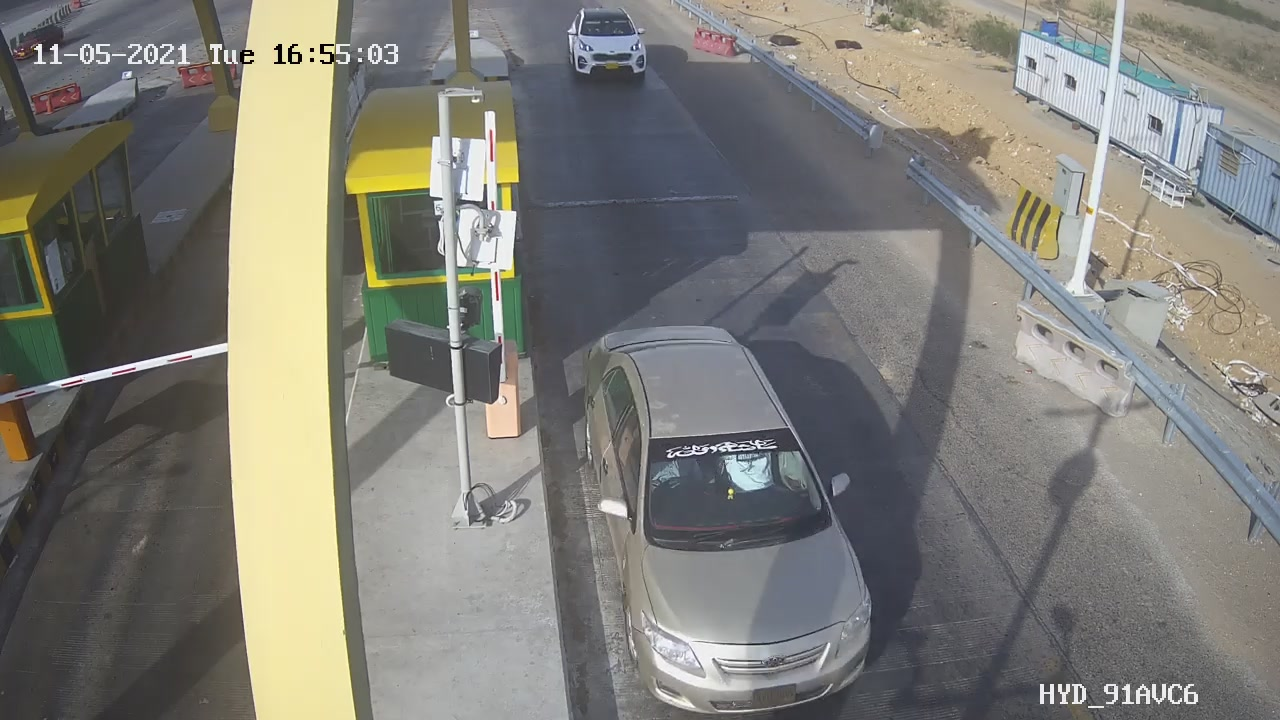F1: (553, 1, 670, 92)
